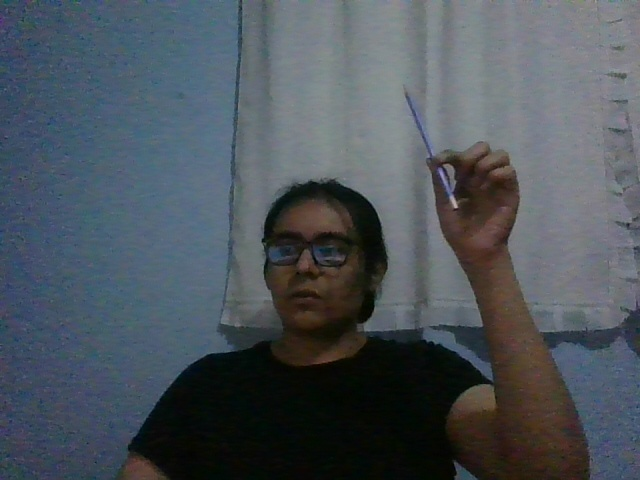lapiz: (402, 83, 459, 211)
